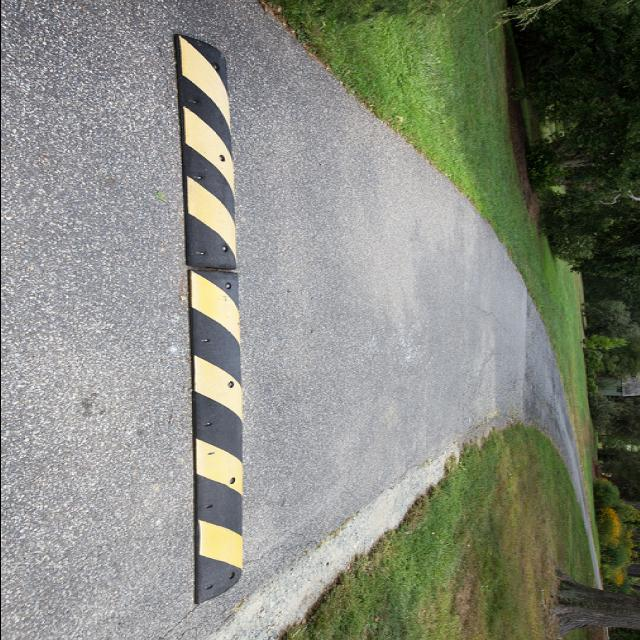speedbreaker: (164, 16, 254, 606)
